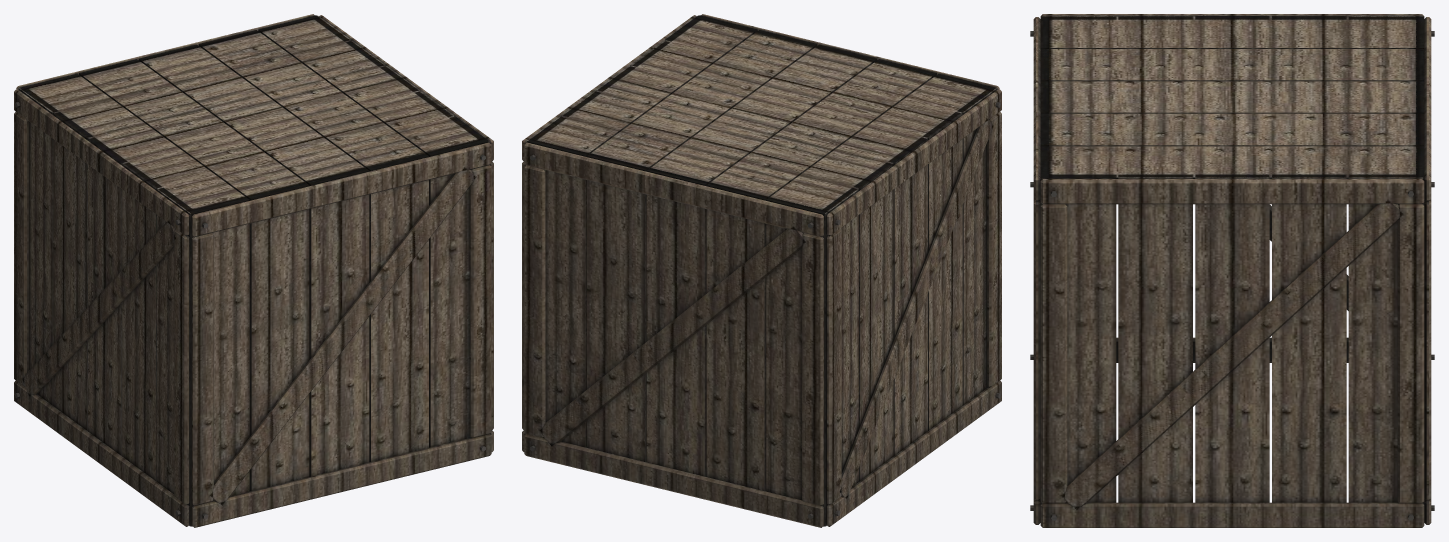
Rendered from crate_old.glb.
3 views of the same model, side by side, from view 1: azimuth 30°, elevation 25°; view 2: azimuth 150°, elevation 25°; view 3: azimuth 270°, elevation 25° (orthographic). The views are drawn at different scales.
Visible parts, largest first — view 1: crate_old; view 2: crate_old; view 3: crate_old.
Boxes of the visible parts, x1,y1,x2,y2 form: crate_old: (14,14,493,527); crate_old: (522,14,1001,527); crate_old: (1030,14,1434,527).
Size of the model in its own units: 1.05 by 1 by 1.05.
1 material, 1 textured.
